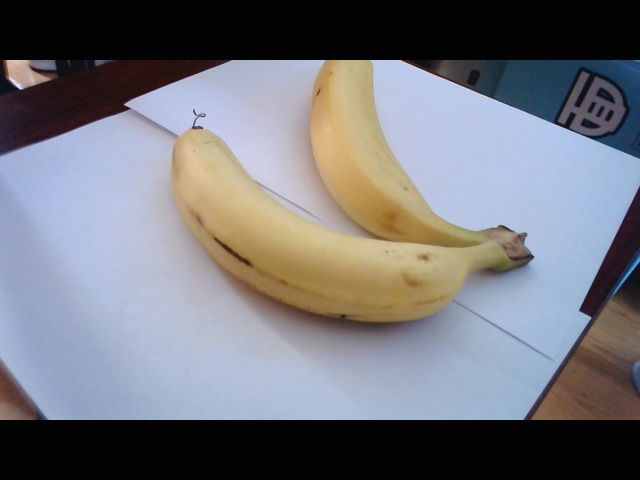banana: (170, 62, 522, 325)
